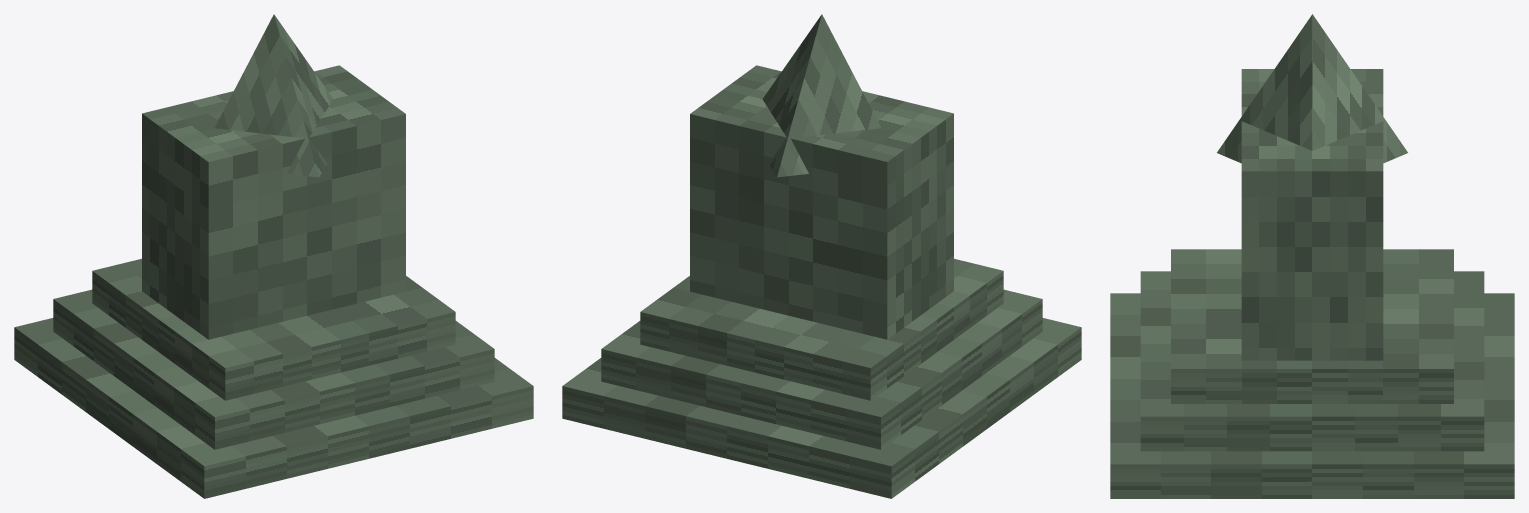
File: shrine_37.glb
3 views of the same model, side by side, from view 1: azimuth 30°, elevation 25°; view 2: azimuth 150°, elevation 25°; view 3: azimuth 270°, elevation 25° (orthographic). The views are drawn at different scales.
Visible parts, largest first — view 1: Altar, Base, Base.001, Base.002, SacredSpire; view 2: Altar, Base, Base.001, Base.002, SacredSpire; view 3: Altar, Base, Base.002, Base.001, SacredSpire.
Part boxes in pixels (box(x1,y1,x2,y2)): Altar: box(142, 65, 405, 339); Base: box(14, 318, 533, 498); Base.001: box(53, 289, 494, 449); Base.002: box(92, 258, 455, 400); SacredSpire: box(214, 14, 333, 177); Altar: box(690, 65, 953, 339); Base: box(562, 318, 1081, 498); Base.001: box(601, 289, 1042, 449); Base.002: box(640, 258, 1003, 400); SacredSpire: box(762, 14, 881, 177); Altar: box(1241, 69, 1383, 360); Base: box(1110, 293, 1514, 498); Base.002: box(1171, 249, 1453, 403); Base.001: box(1140, 271, 1484, 451); SacredSpire: box(1217, 14, 1407, 163).
Size of the model in its own units: 2.11 by 2.3 by 2.11.
Materials: 1 (1 with a texture image).
